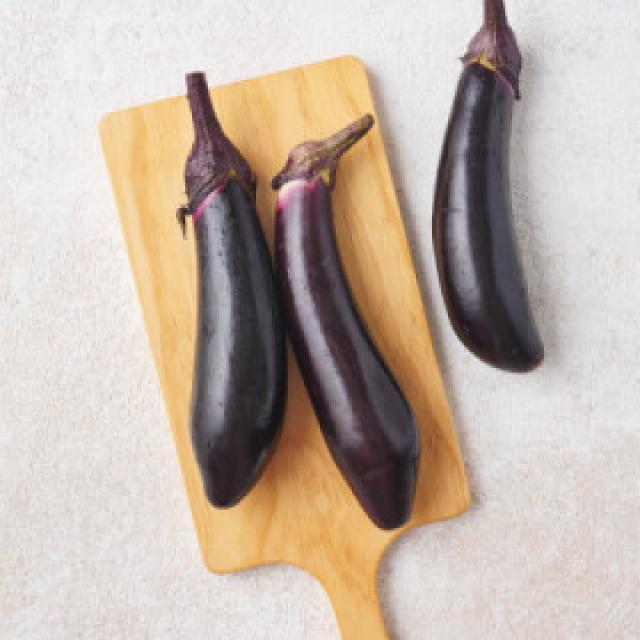eggplant: (128, 0, 574, 549), (126, 66, 310, 544), (275, 88, 417, 546)
